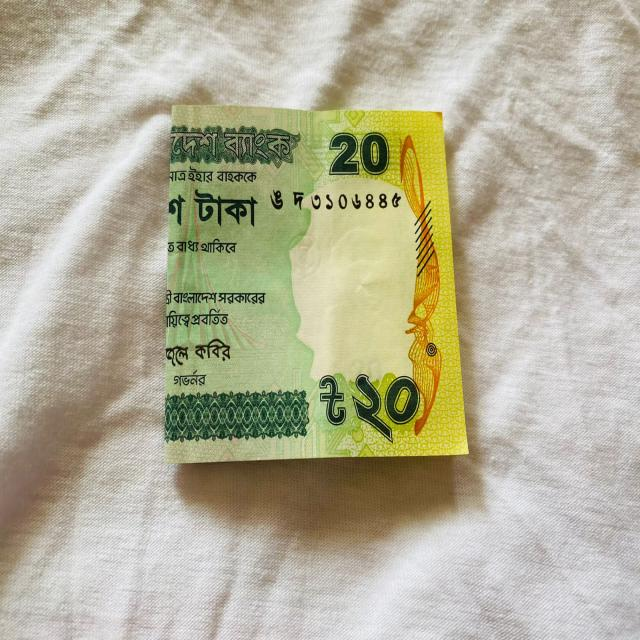Taka: (160, 90, 475, 477)
